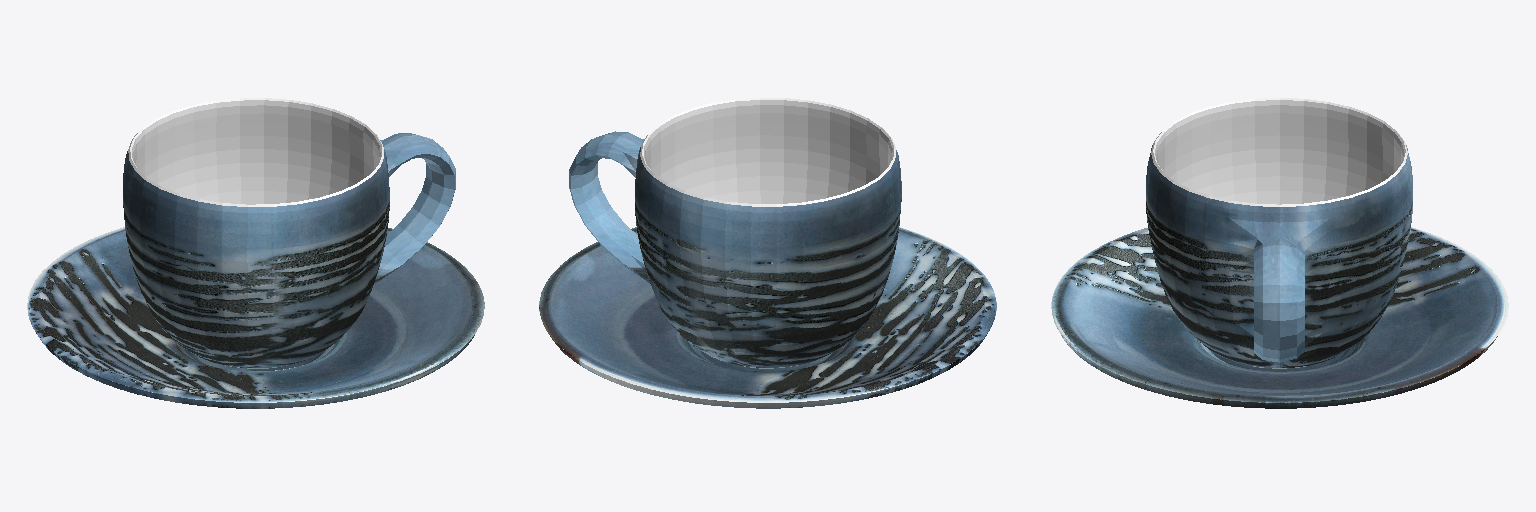
The picture shows the model from 3 angles: view 1: azimuth 30°, elevation 25°; view 2: azimuth 150°, elevation 25°; view 3: azimuth 270°, elevation 25°; orthographic projection.
Visible parts, largest first — view 1: 13.0.114.0; view 2: 13.0.114.0; view 3: 13.0.114.0.
Part boxes in pixels (x1,y1,x2,y2): 13.0.114.0: (27, 98, 484, 408); 13.0.114.0: (539, 98, 996, 408); 13.0.114.0: (1051, 98, 1508, 408).
Size of the model in its own units: 12.04 by 6.09 by 12.04.
Materials: 5 (2 with a texture image).